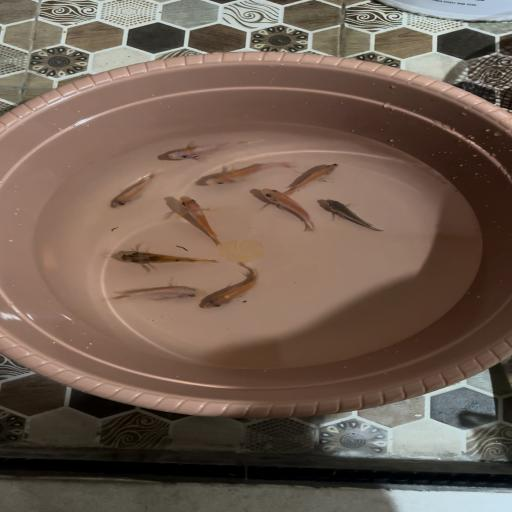nila: (151, 129, 275, 165), (198, 261, 272, 316), (163, 191, 231, 247), (95, 168, 172, 214), (98, 280, 211, 311), (196, 154, 289, 191), (313, 198, 399, 236), (101, 248, 230, 273), (254, 186, 316, 235), (293, 158, 349, 198)
